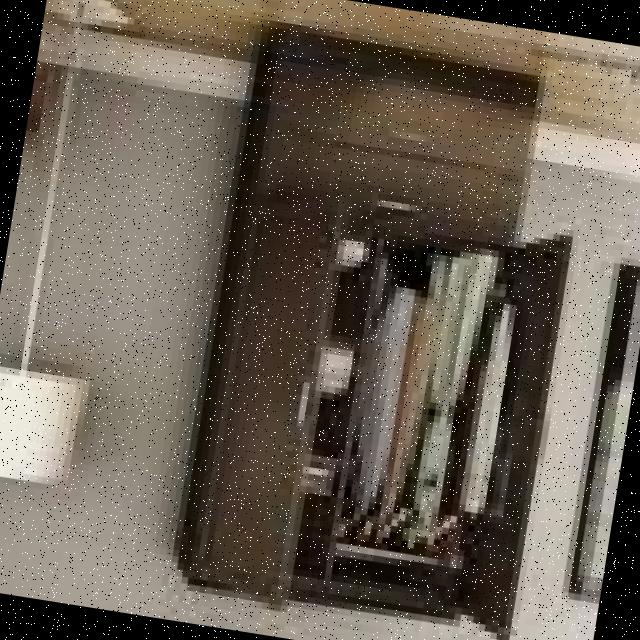Closet: (160, 24, 606, 640)
